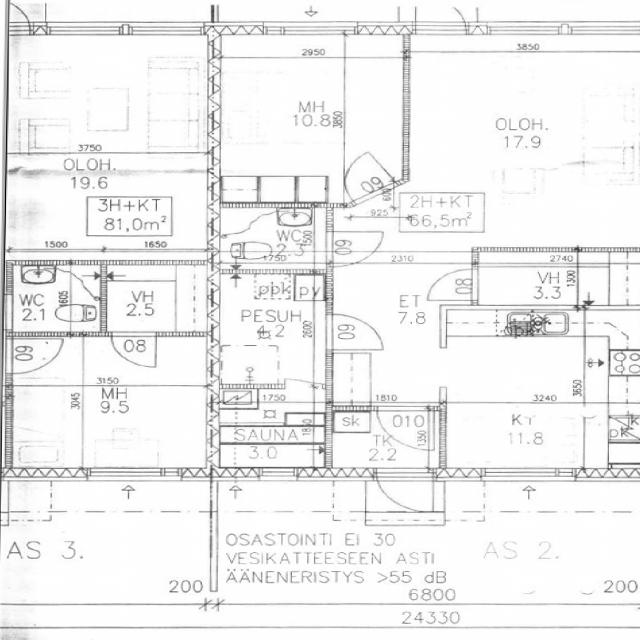door: (326, 151, 399, 204), (377, 468, 432, 521), (378, 406, 434, 451), (326, 231, 384, 267), (326, 314, 382, 350), (416, 0, 466, 34), (428, 270, 478, 300), (285, 358, 322, 389)
